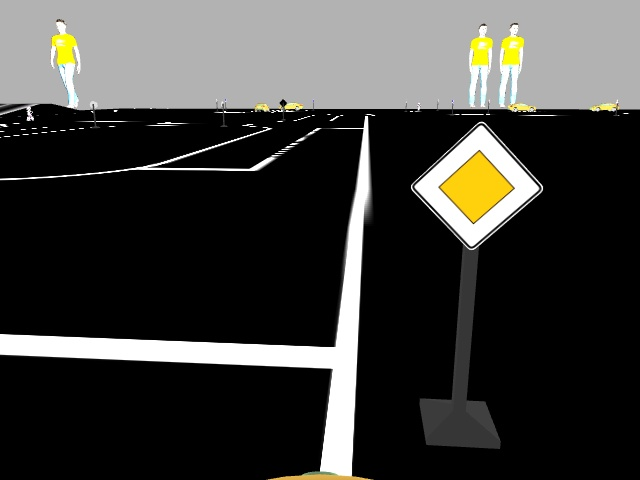Priority: (412, 123, 542, 248)
